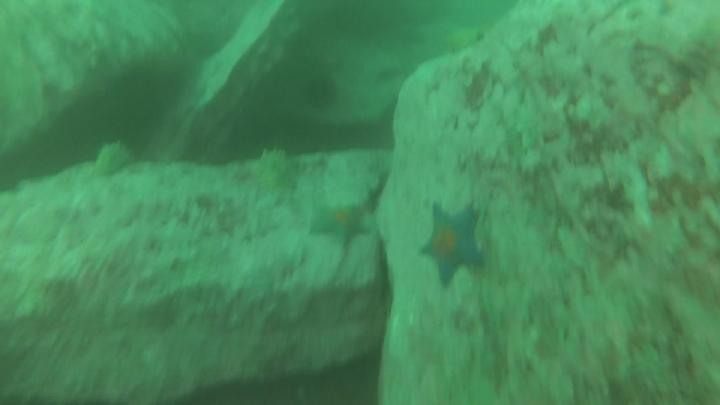echinus: (302, 73, 344, 113)
holothurian: (254, 147, 301, 200), (96, 140, 136, 176)
starfish: (419, 203, 488, 290), (310, 204, 373, 252)
